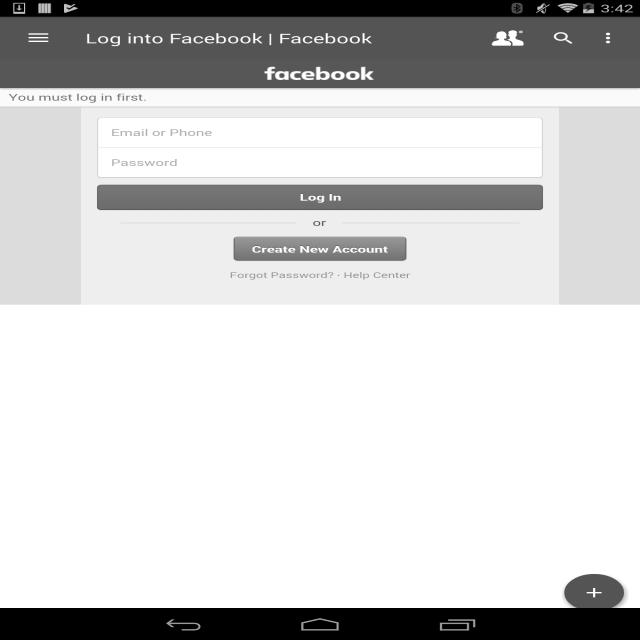ImageButton: (559, 569, 629, 616), (9, 17, 68, 59)
ImageView: (589, 22, 631, 54), (581, 584, 607, 600)
TextView: (85, 29, 372, 47), (478, 22, 537, 54), (538, 22, 588, 54)
